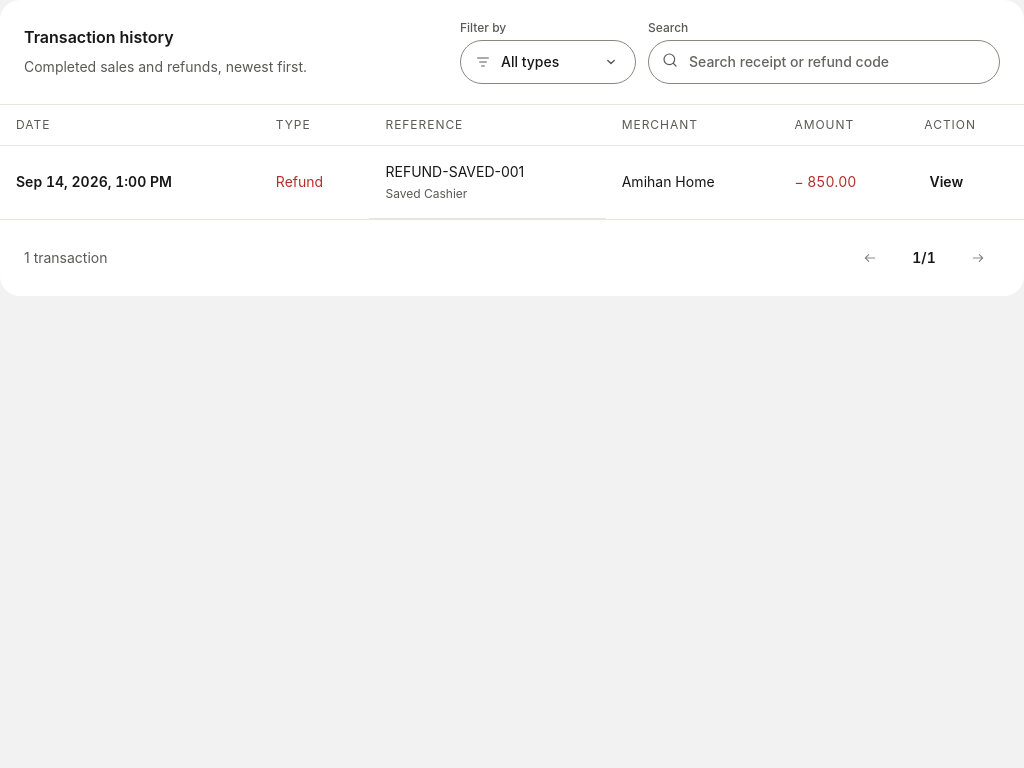
Test: Reports inline refund details › opens refund row detail with click
Click the row named "Open refund REFUND-SAVED-001".
click(512, 182)  # box x1=0 y1=146 x2=1023 y2=218
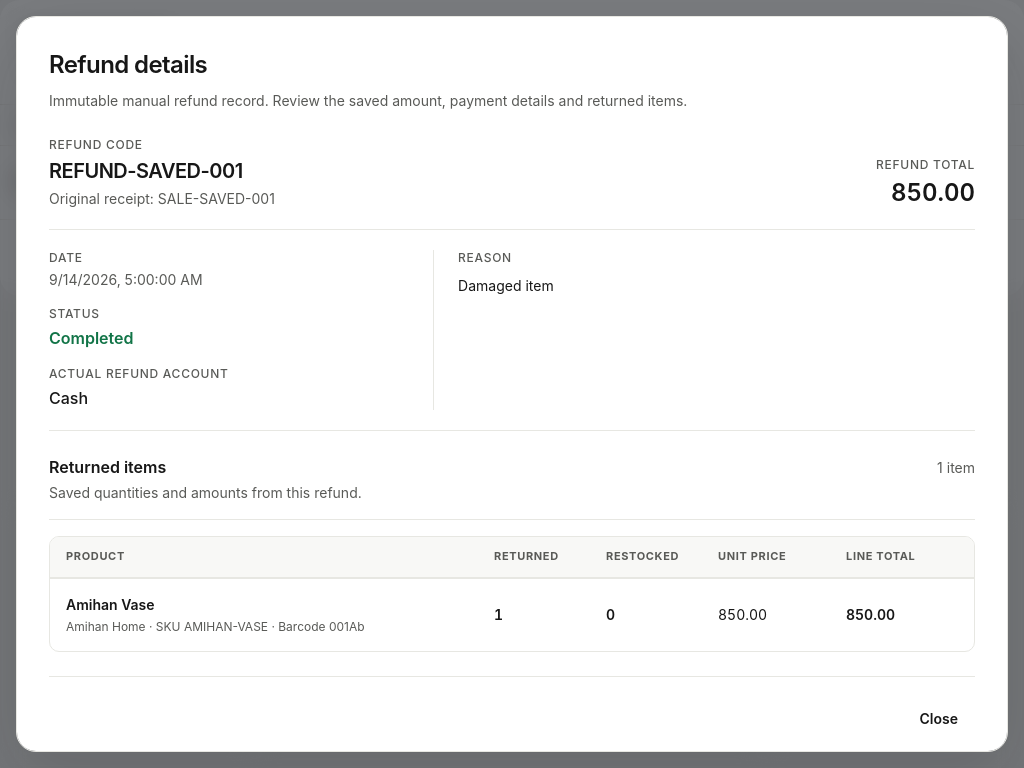
Now the text "Damaged item" is shown, box x1=458 y1=277 x2=554 y2=294
